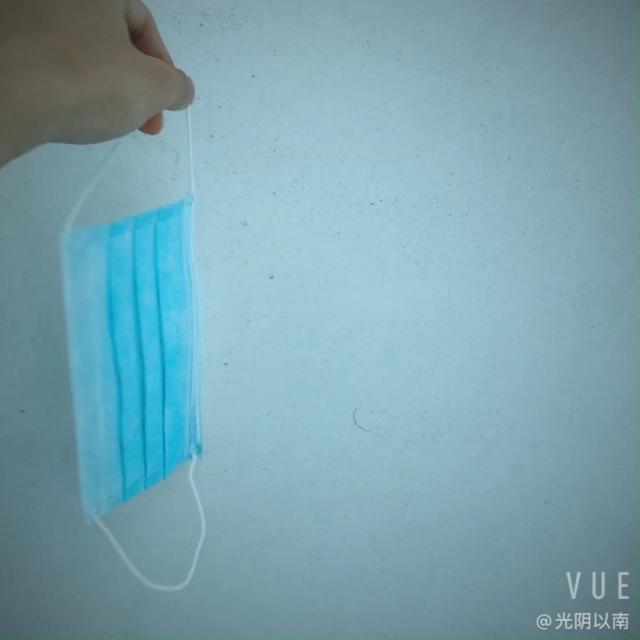non-organic waste: (58, 184, 218, 516)
